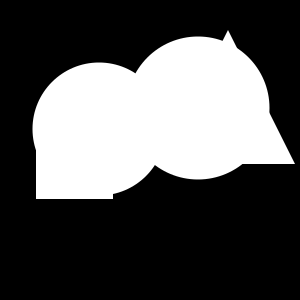circle: (36, 122, 113, 199)
rectangle: (126, 36, 270, 180), (32, 62, 166, 195)
triangle: (161, 30, 295, 164), (186, 64, 266, 144)
